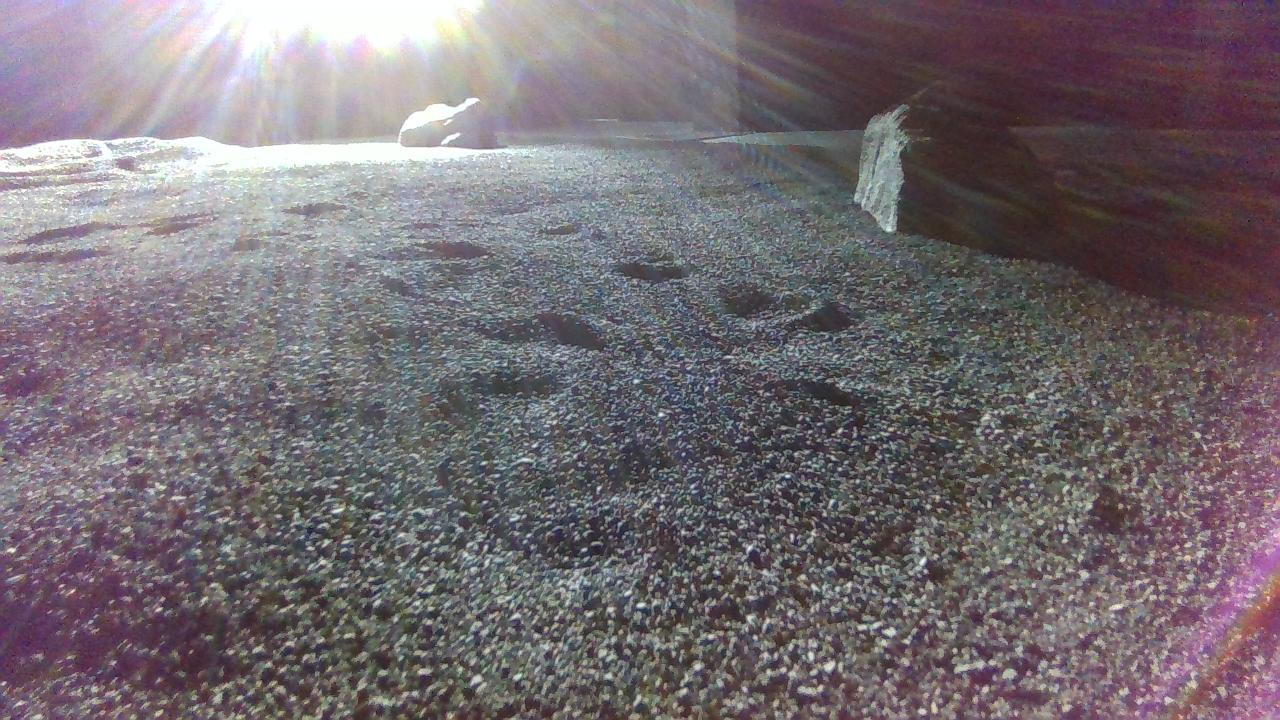rock: (855, 103, 1060, 241), (399, 96, 497, 147)
